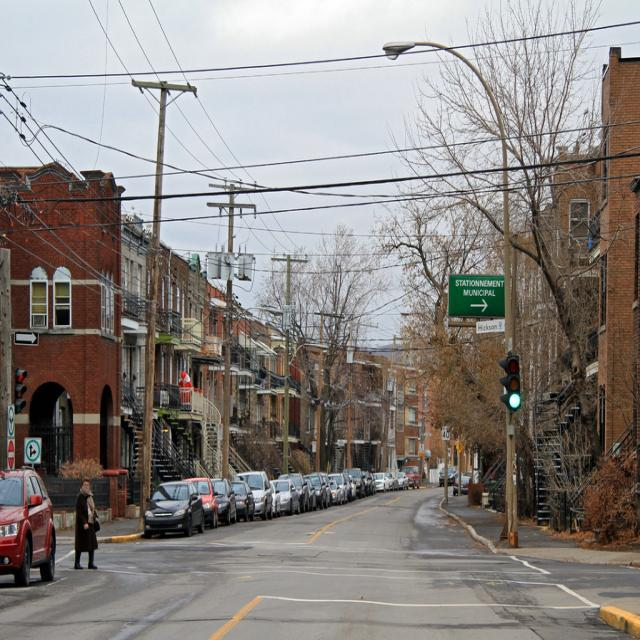traffic light: (499, 355, 523, 417), (15, 369, 29, 413)
